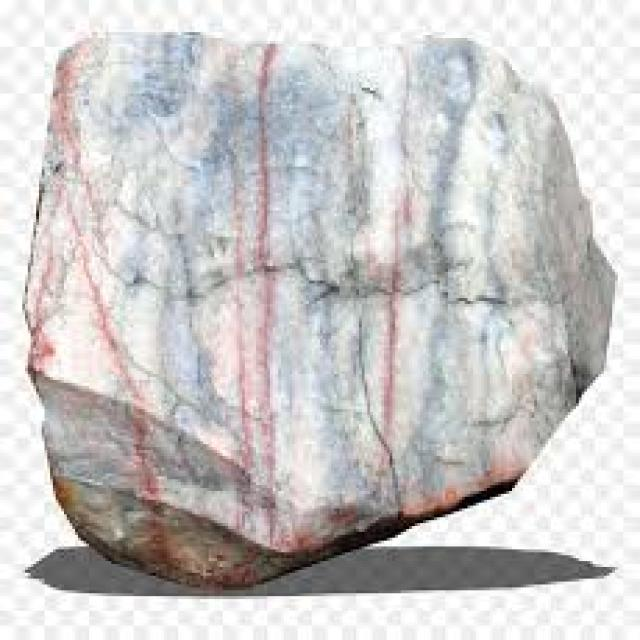Metamorphic: (36, 29, 618, 593)
